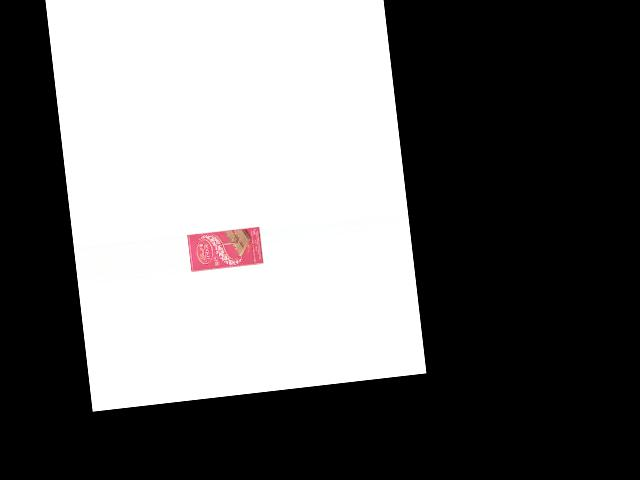chocolate: (187, 222, 263, 273)
